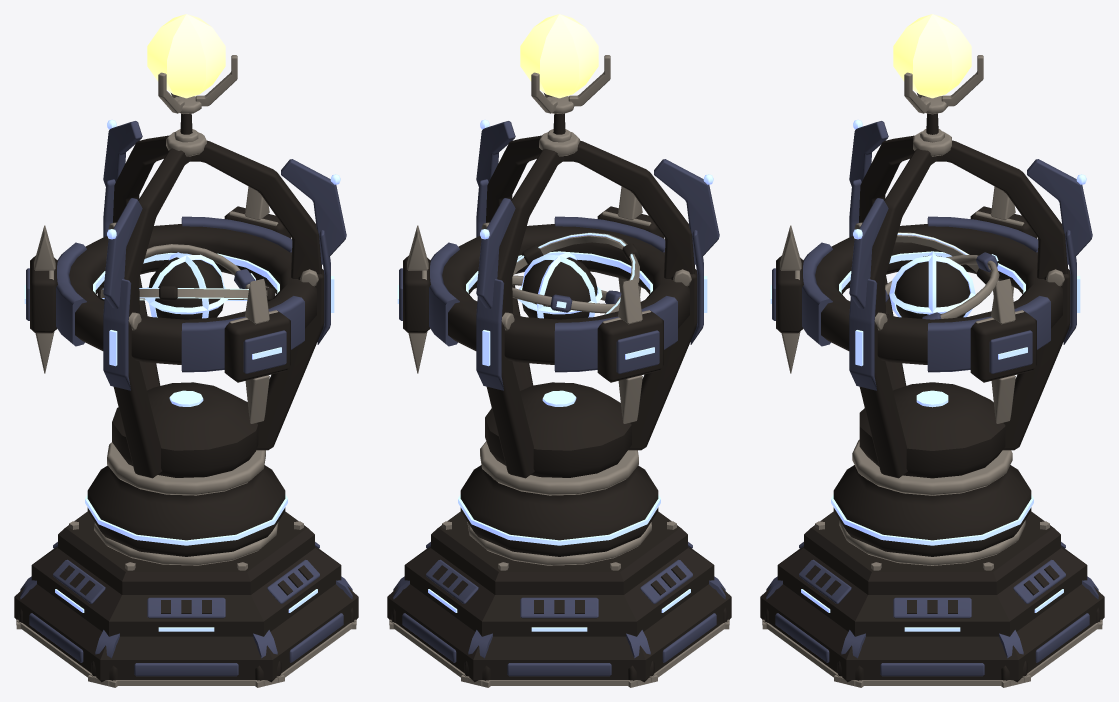
File: tower_gravity.glb
3 renders of one model, left to right at view 1: azimuth 30°, elevation 25°; view 2: azimuth 150°, elevation 25°; view 3: azimuth 270°, elevation 25°, orthographic.
Visible parts, largest first — view 1: base, turret, lvl2, lvl3, tower_gravity, orb, spin_2, spin_1; view 2: base, turret, lvl2, lvl3, tower_gravity, orb, spin_2, spin_1; view 3: base, turret, lvl2, lvl3, tower_gravity, orb, spin_1, spin_2.
Part boxes in pixels (x1,y1,x2,y2): base: (14,465,358,687); turret: (49,55,334,495); lvl2: (24,186,290,423); lvl3: (103,120,346,308); tower_gravity: (147,14,225,98); orb: (145,252,227,319); spin_2: (97,286,275,301); spin_1: (144,244,255,288); base: (387,465,731,687); turret: (422,55,707,495); lvl2: (397,186,663,423); lvl3: (476,120,719,308); tower_gravity: (520,14,598,98); orb: (518,252,602,319); spin_2: (513,232,640,314); spin_1: (512,275,621,313); base: (760,465,1104,687); turret: (795,55,1080,495); lvl2: (770,186,1036,423); lvl3: (849,120,1092,308); tower_gravity: (893,14,971,98); orb: (889,251,975,318); spin_1: (885,252,999,319); spin_2: (886,232,998,314).
Bounding box in the file's own units: 1.66 × 3.6 × 1.85.
